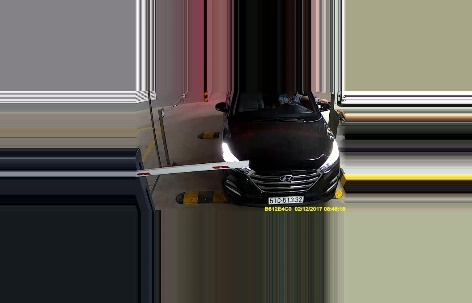plate: (265, 192, 305, 205)
